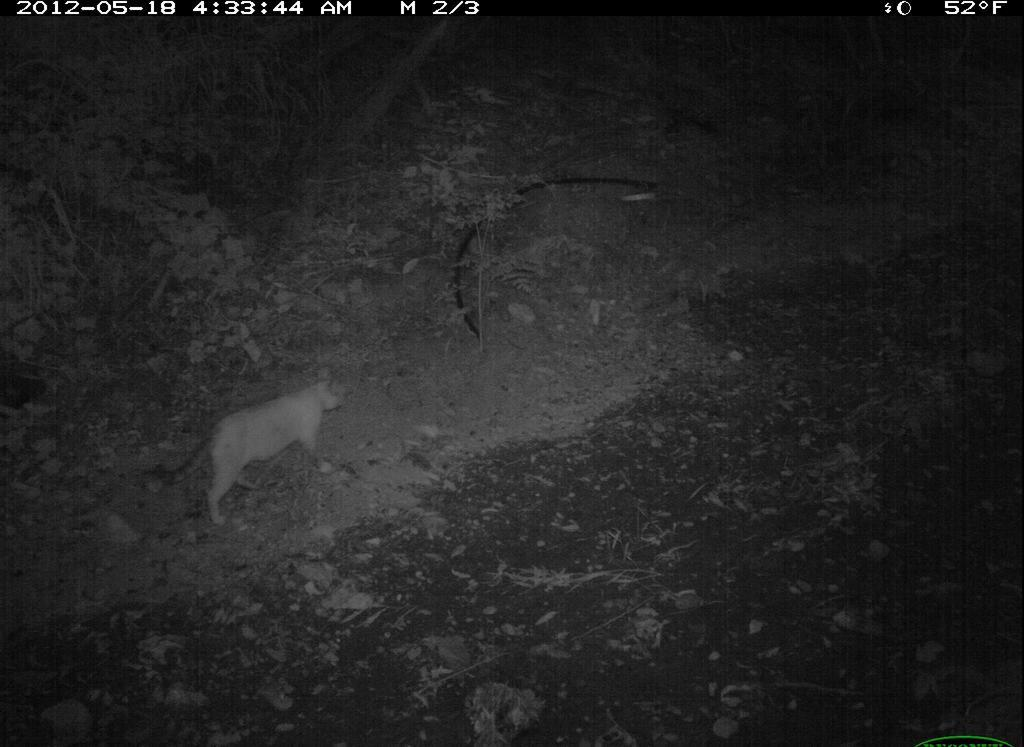cat: (158, 361, 408, 548)
